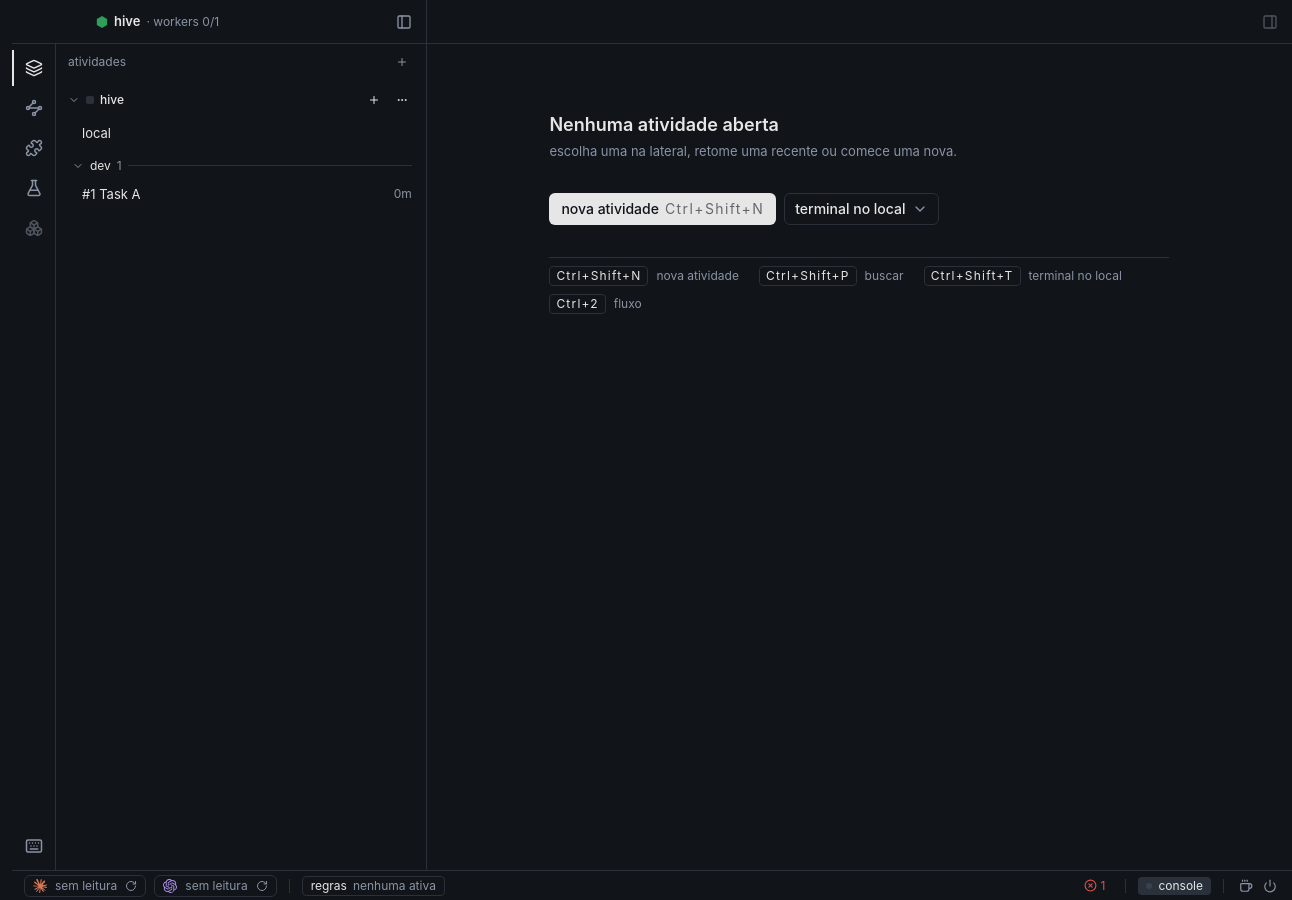
Scenario: the footer's checkers follow the focused file tab of the activity the center shows, its problems button counts every activity without one, and ⌘⇧M opens the dra
The width and height of the screenshot is (1292, 900).
Step 1. Click the button named "fluxo" → (34, 108), box left=12, top=90, right=56, bottom=126
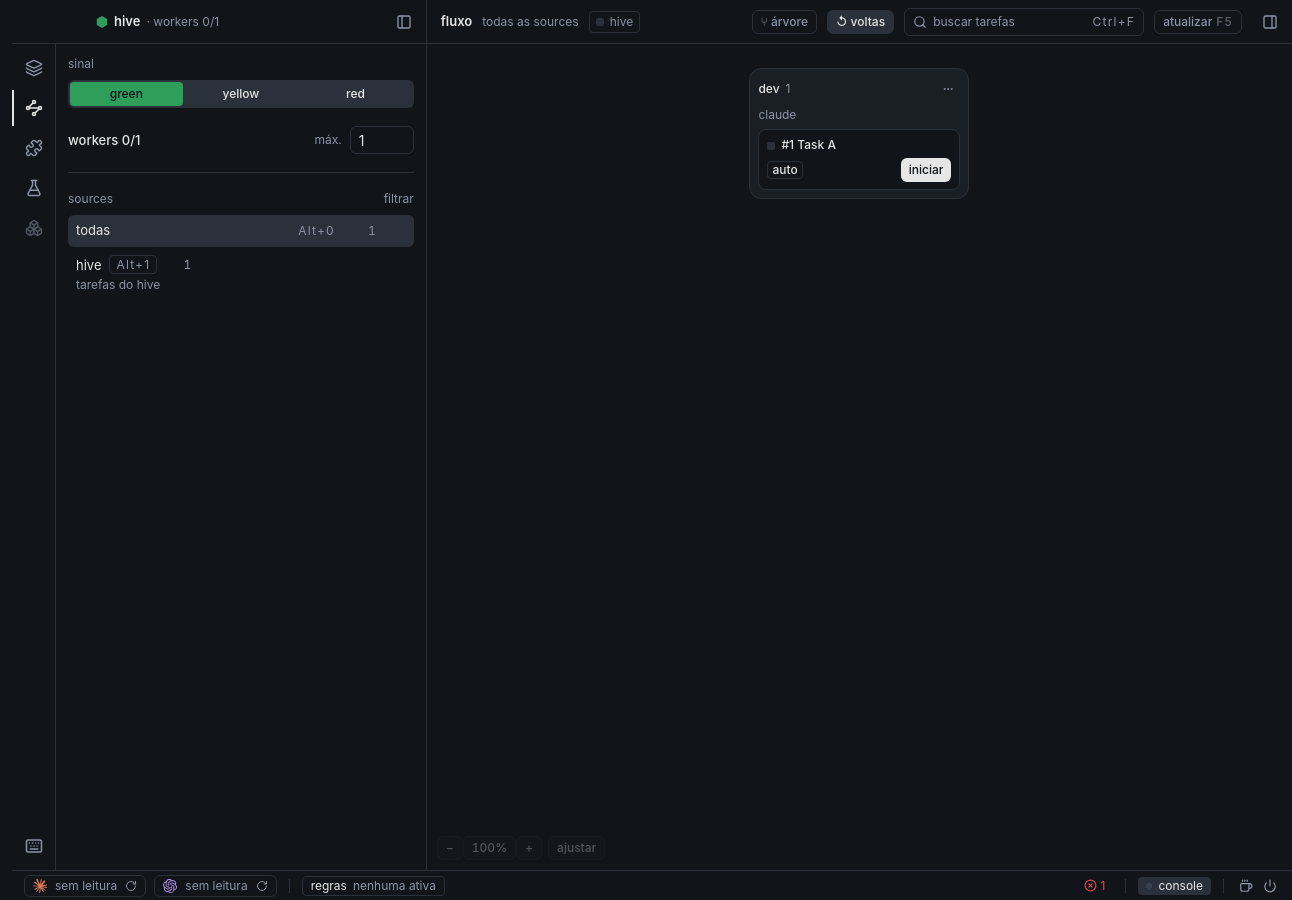
Expected: the text "tsc falhou" is not shown
Expected: the button named "problemas" reads "1", left=1076, top=876, right=1113, bottom=894
Step 2. Click the button named "atividades" → (34, 68), box left=12, top=50, right=56, bottom=86
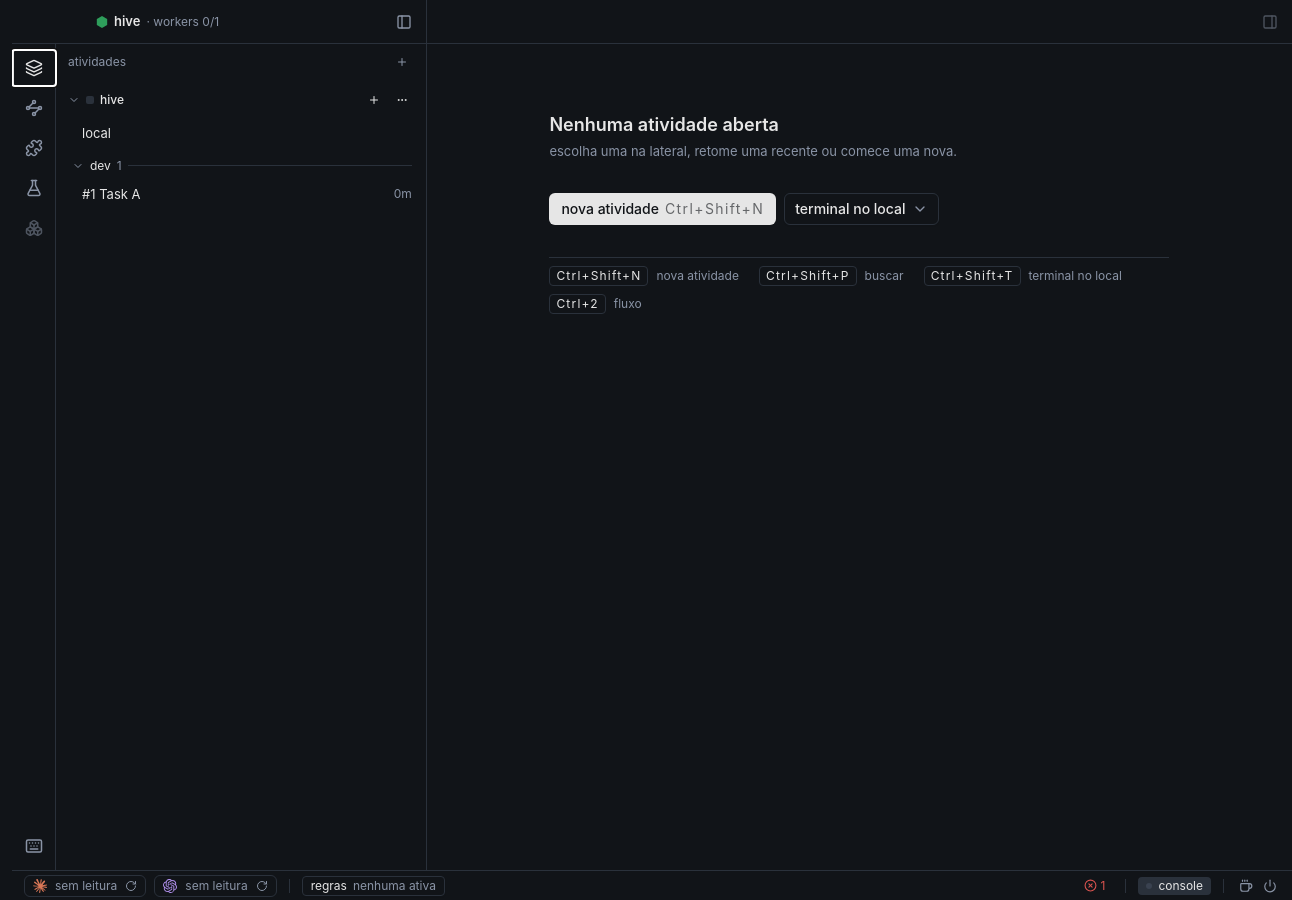
Step 3. Click the text "#1 Task A" → (111, 194), box left=82, top=186, right=140, bottom=202
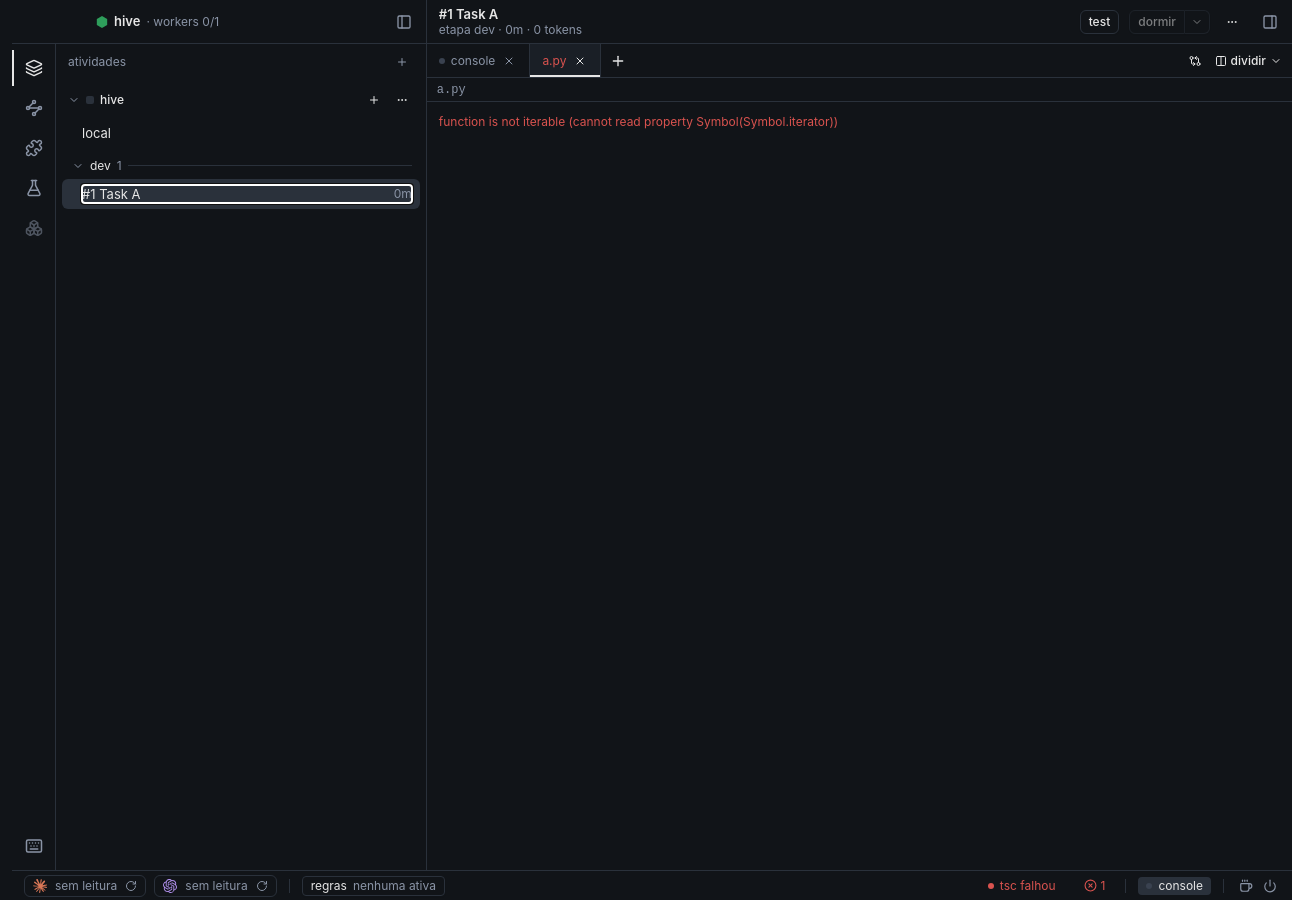
Step 4. Click the tab "console" → (467, 60), box left=439, top=52, right=495, bottom=68
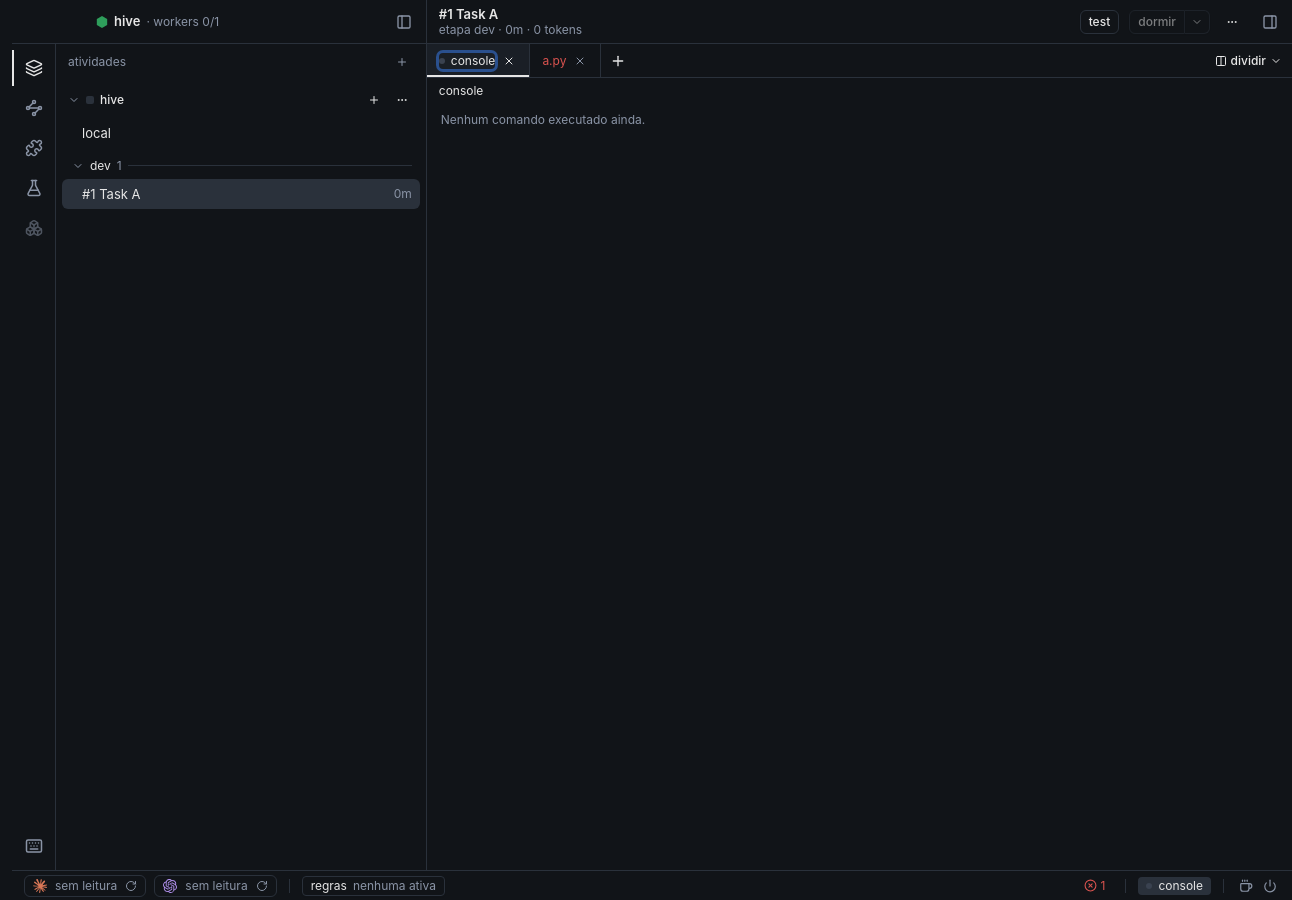
Expected: the text "tsc falhou" is gone
Step 5. Press M
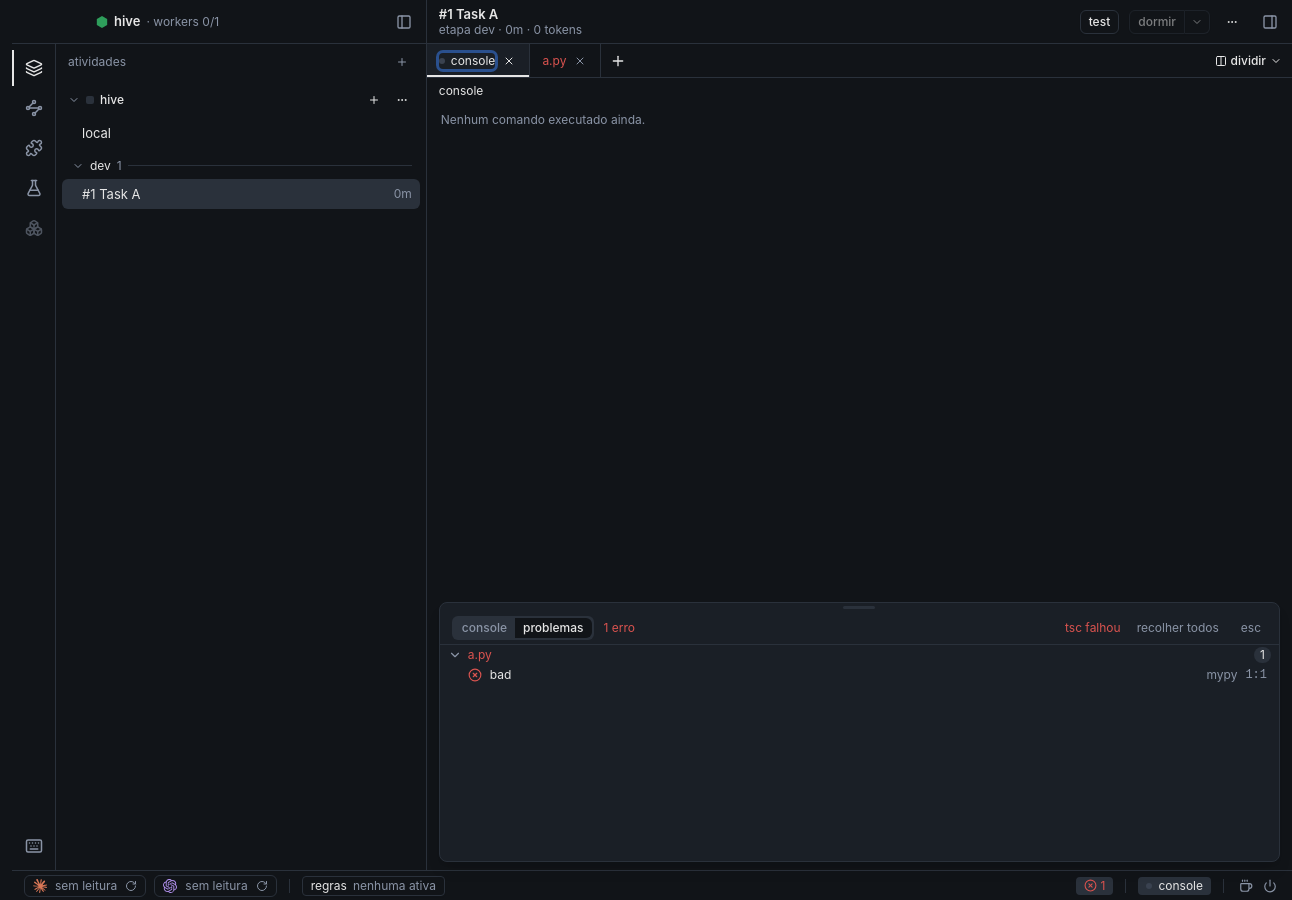
Expected: the text "bad" is shown, left=490, top=667, right=511, bottom=682
